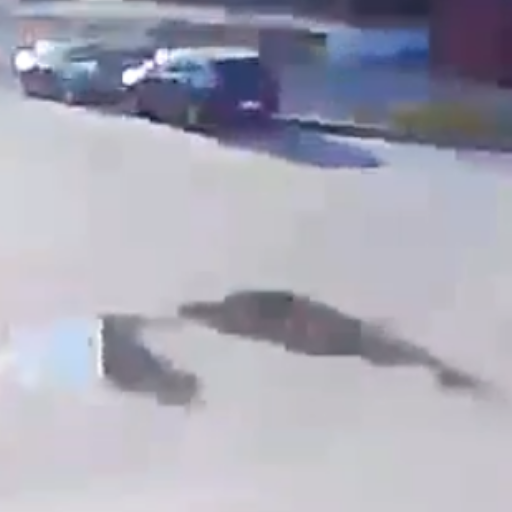Car: (120, 42, 274, 135), (18, 39, 127, 103)
